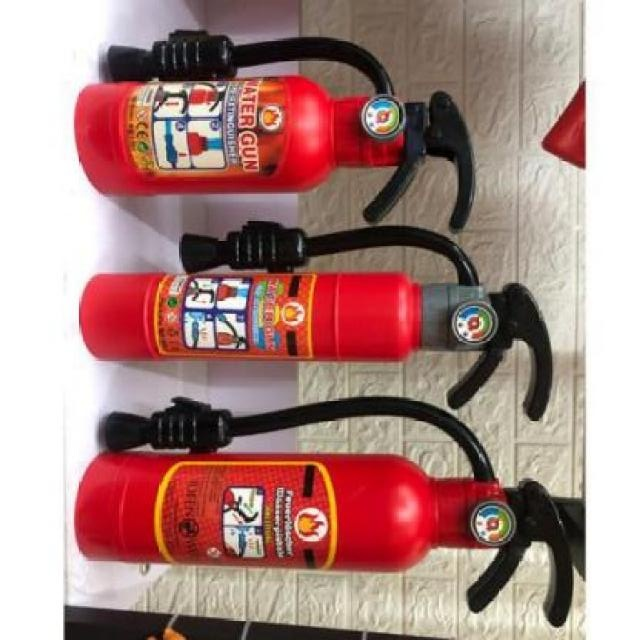fire extinguisher: (72, 395, 585, 629), (78, 218, 554, 422), (74, 29, 477, 233)
